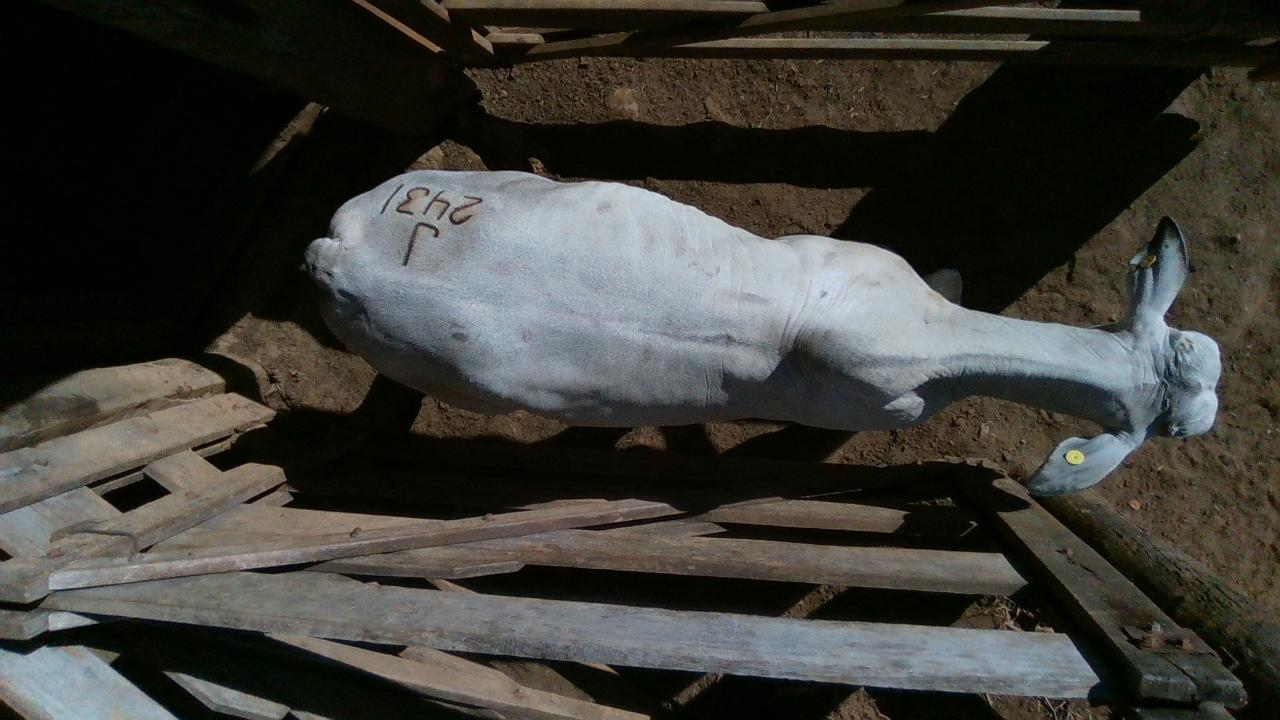cattle: (302, 166, 1223, 497)
